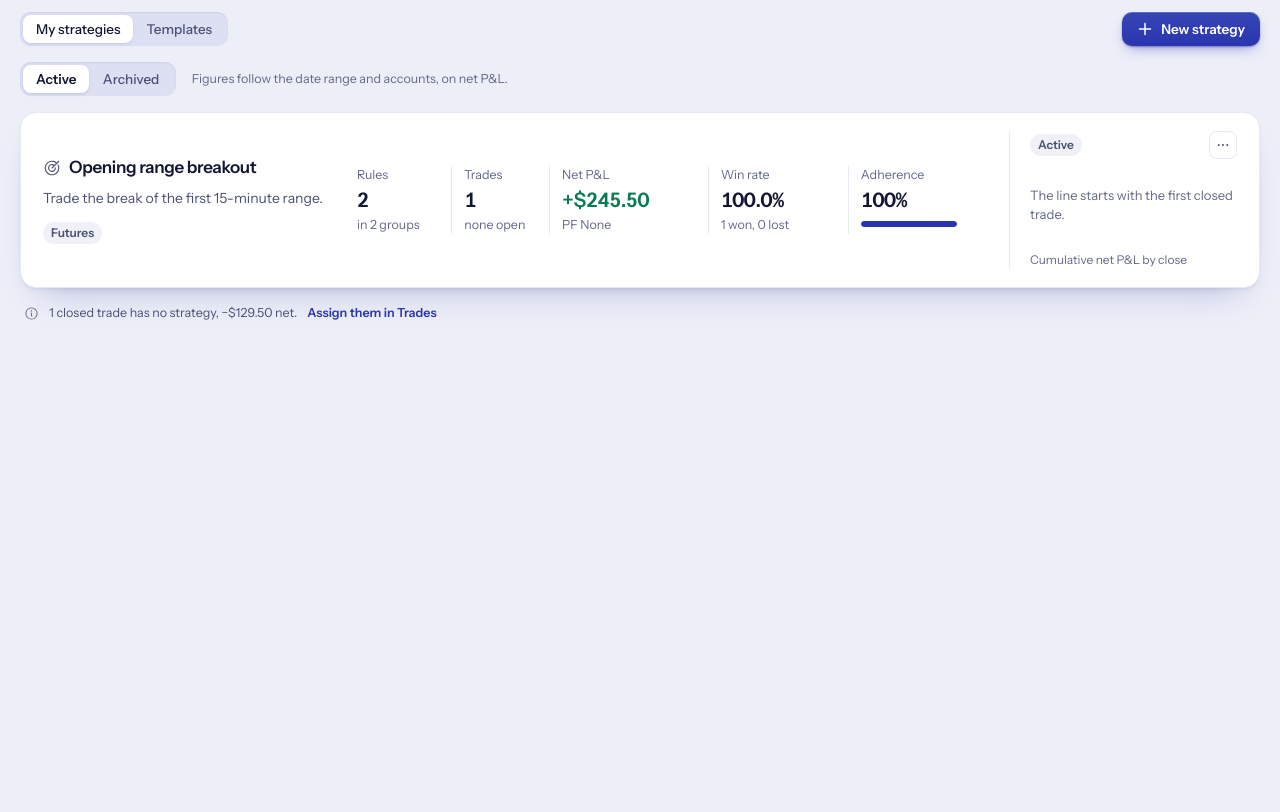
Test: Strategies has two tabs, My strategies and Templates
Step 1. Click the tab "Templates" → click(179, 29), box [134,15,225,43]
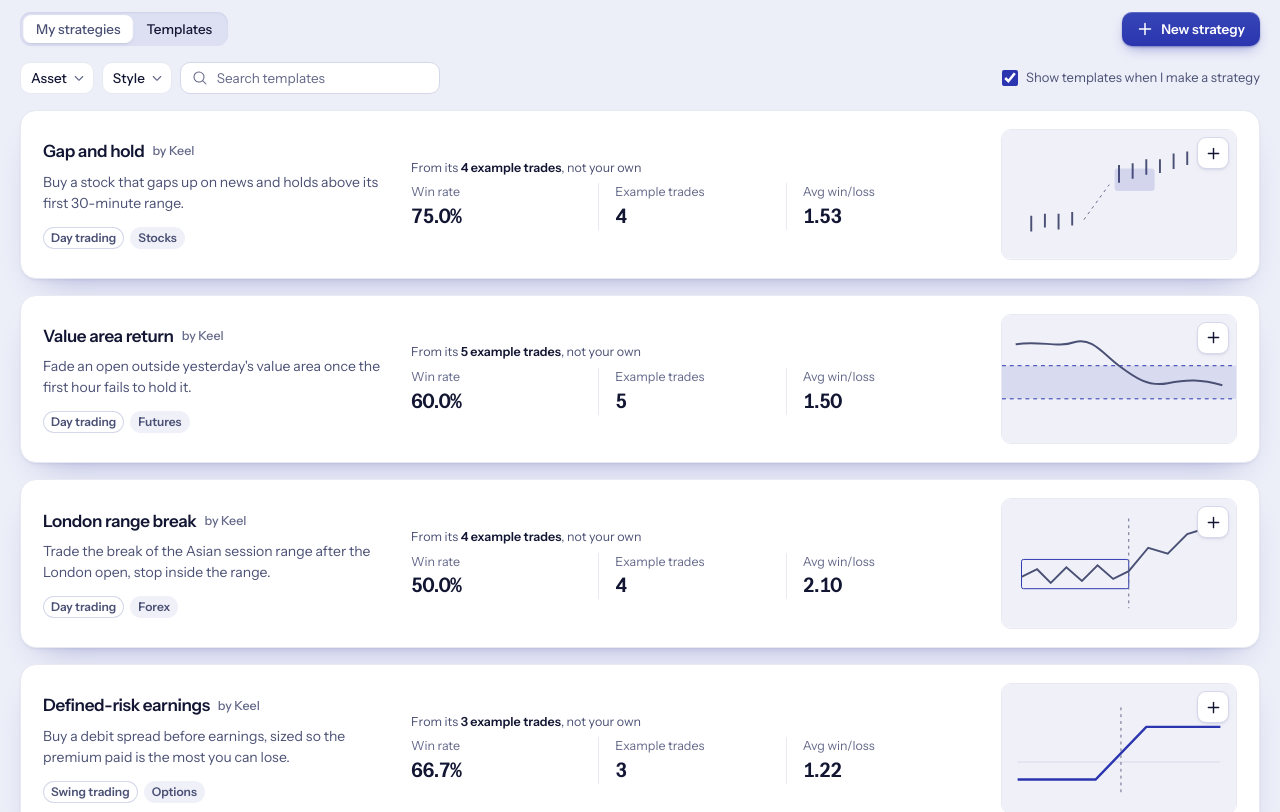
Check: the heading "London range break" is shown, box [43,510,196,533]
Step 2. Click the tab "My strategies" → click(78, 29), box [23,15,134,43]
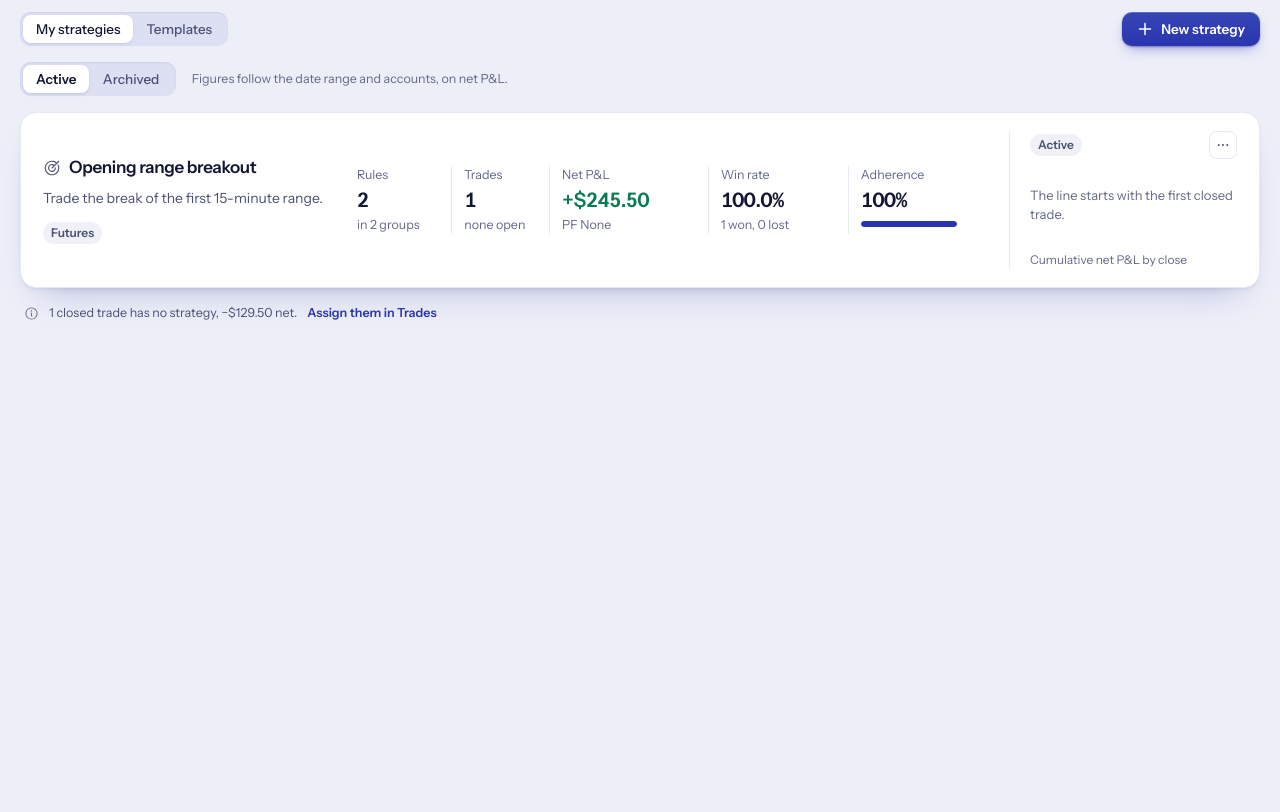
Check: the link "Opening range breakout" is shown, box [69,157,256,177]
